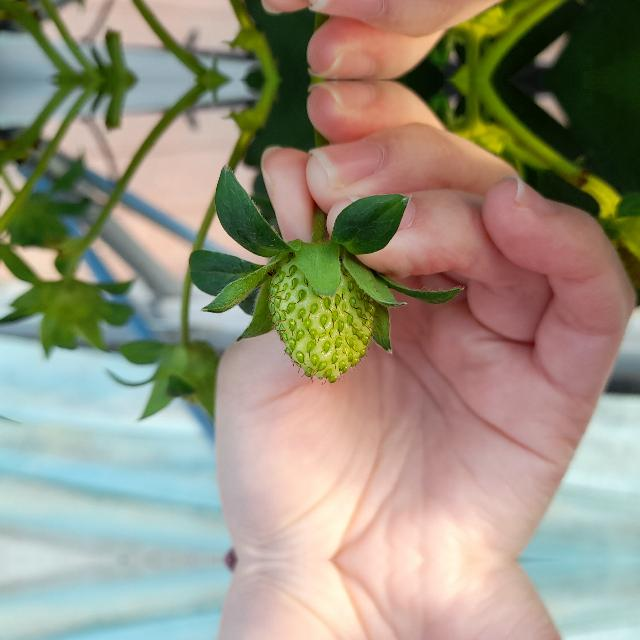Health_25: (267, 254, 375, 382)
